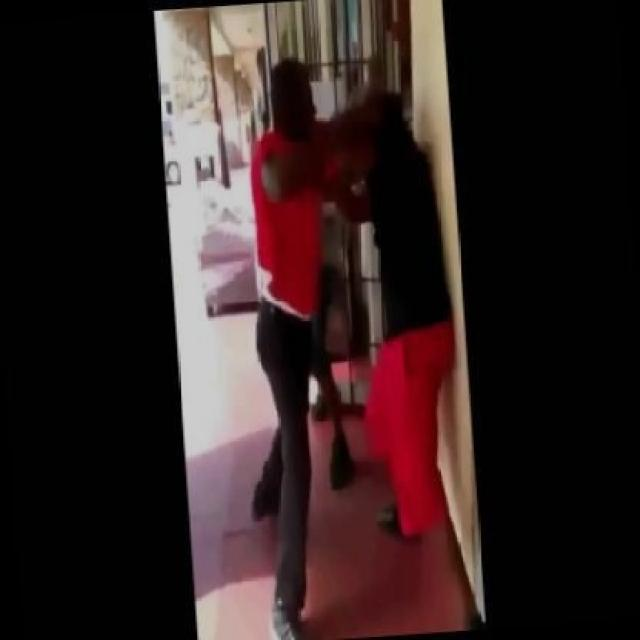fight: (180, 4, 523, 638)
